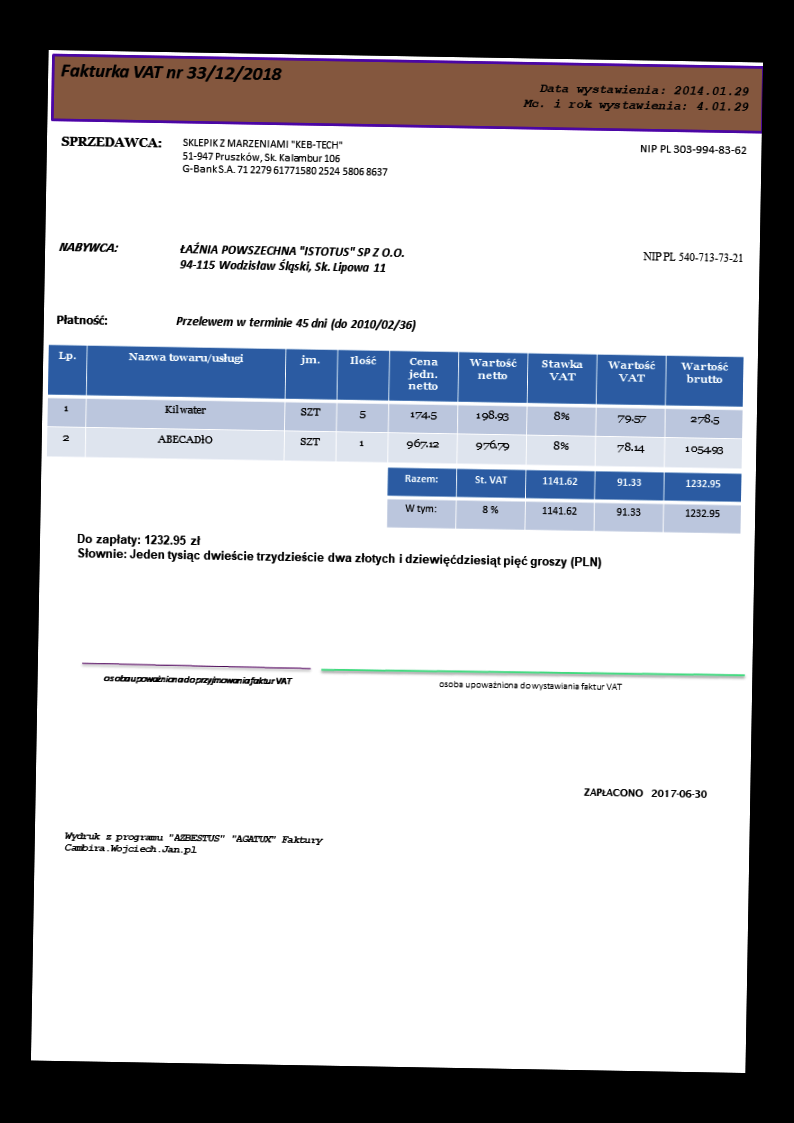Table: (44, 342, 744, 468), (384, 465, 742, 536)
TextBox: (74, 530, 604, 573), (180, 133, 390, 181), (62, 827, 327, 860), (519, 79, 751, 116), (176, 240, 408, 277), (57, 57, 284, 86), (173, 313, 417, 333), (100, 670, 292, 689), (435, 677, 625, 694), (581, 784, 710, 802), (637, 139, 749, 158), (58, 132, 162, 152), (639, 248, 746, 266), (56, 239, 119, 256), (53, 311, 110, 328)
